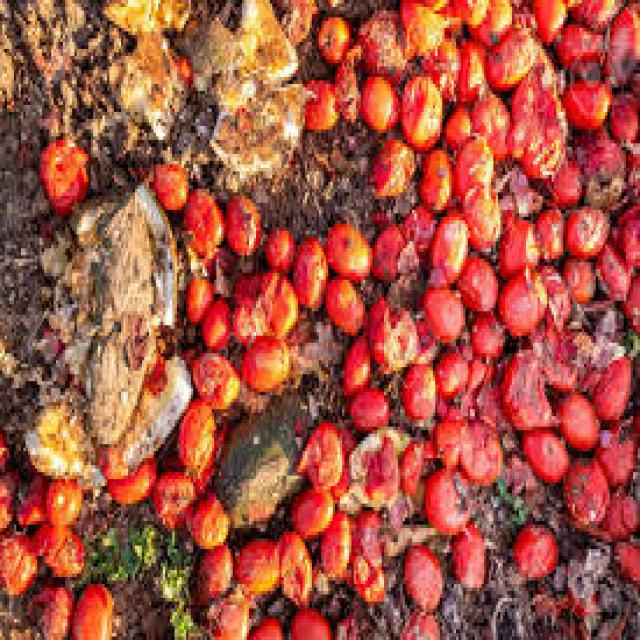food_waste: (0, 0, 638, 637), (397, 0, 640, 514), (201, 514, 362, 640), (181, 220, 310, 370), (97, 378, 225, 504), (0, 473, 96, 640), (40, 584, 112, 637), (512, 528, 556, 577)
